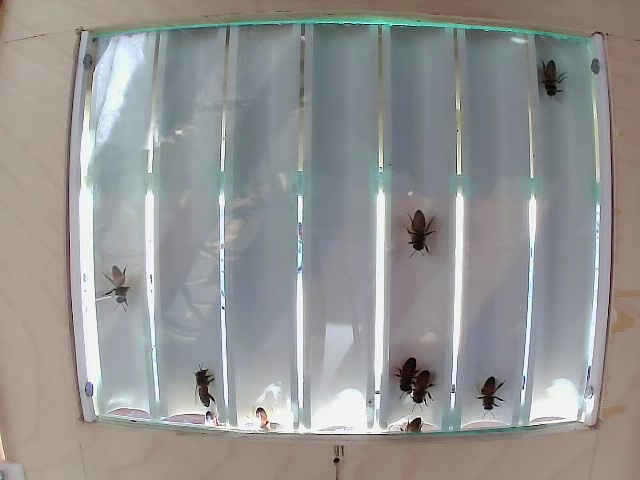bee: (403, 209, 433, 258), (194, 374, 224, 408), (539, 64, 567, 100), (111, 265, 143, 296), (473, 372, 497, 412), (413, 368, 430, 406), (398, 357, 412, 387)
